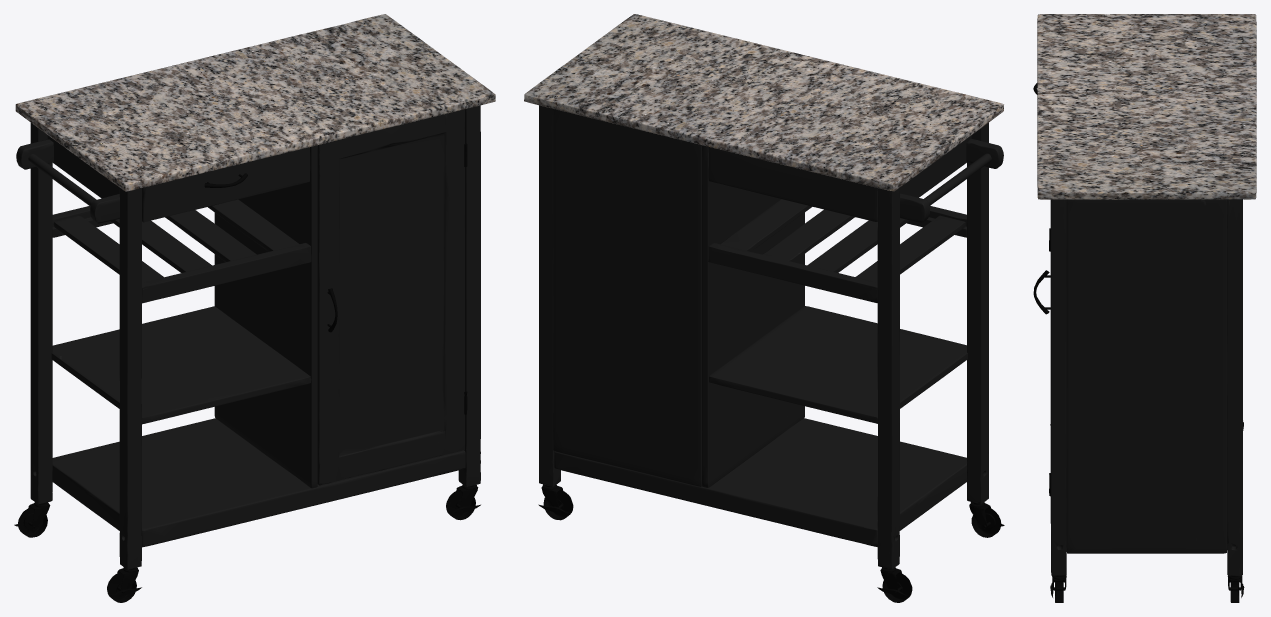
The model's file is IRD1949_v6_LOD2.obj.
3 views of the same model, side by side, from view 1: azimuth 30°, elevation 25°; view 2: azimuth 150°, elevation 25°; view 3: azimuth 270°, elevation 25° (orthographic).
Visible parts, largest first — view 1: not_clear_obj_0_v6, not_clear_obj_2_v6, not_clear_obj_4_v6, not_clear_obj_3_v6; view 2: not_clear_obj_0_v6, not_clear_obj_2_v6, not_clear_obj_4_v6, not_clear_obj_3_v6; view 3: not_clear_obj_0_v6, not_clear_obj_2_v6, not_clear_obj_3_v6, not_clear_obj_4_v6.
Boxes of the visible parts, <box> form: not_clear_obj_0_v6: <box>16,105,480,569</box>; not_clear_obj_2_v6: <box>15,14,495,191</box>; not_clear_obj_4_v6: <box>18,490,475,602</box>; not_clear_obj_3_v6: <box>14,484,480,596</box>; not_clear_obj_0_v6: <box>539,105,1003,569</box>; not_clear_obj_2_v6: <box>524,14,1003,191</box>; not_clear_obj_4_v6: <box>543,490,1001,602</box>; not_clear_obj_3_v6: <box>538,484,1004,596</box>; not_clear_obj_0_v6: <box>1050,199,1242,575</box>; not_clear_obj_2_v6: <box>1037,14,1256,199</box>; not_clear_obj_3_v6: <box>1050,422,1244,597</box>; not_clear_obj_4_v6: <box>1055,582,1239,602</box>.
Size of what is drawn, in the model's own units: 81.59 by 86.09 by 41.37.
Materials: 6 (2 with a texture image).
